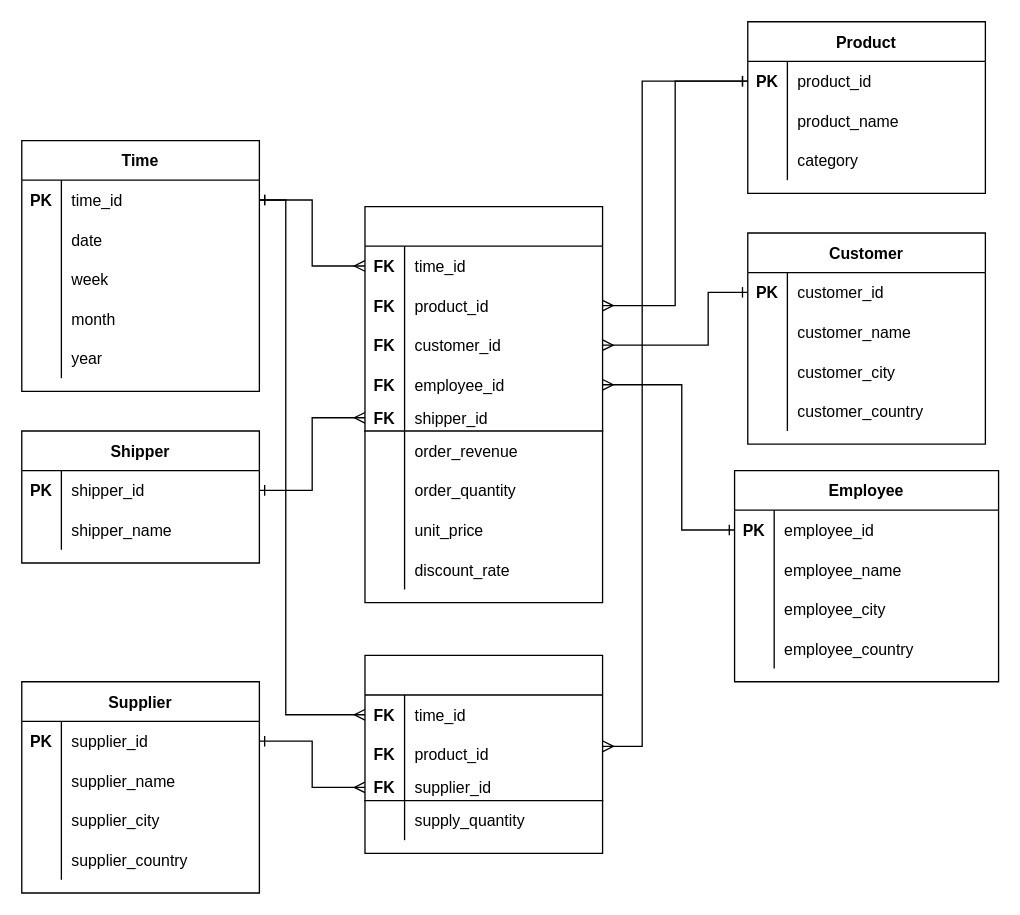
Image size: 1020x915. Some labels were removed from this diagram. The box of each missing label's shape, as (x1, y1, x2, y2) in pixels:
Order Fact Table: (364, 205, 603, 603)
Supply Fact Table: (364, 654, 603, 853)
